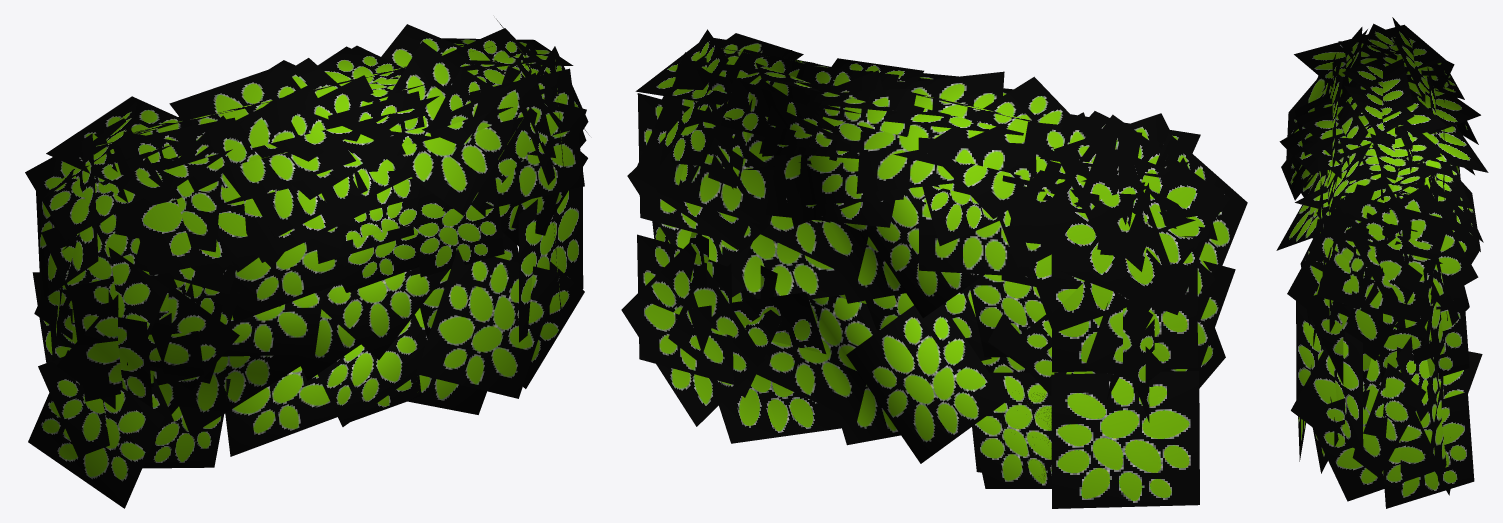
The model's file is q_Bush_Large.glb.
3 renders of one model, left to right at view 1: azimuth 30°, elevation 25°; view 2: azimuth 150°, elevation 25°; view 3: azimuth 270°, elevation 25°, orthographic. The views are drawn at different scales.
Visible parts, largest first — view 1: Bush_Large_Plane.031; view 2: Bush_Large_Plane.031; view 3: Bush_Large_Plane.031.
Part boxes in pixels (box(x1,y1,x2,y2)): Bush_Large_Plane.031: box(25, 19, 589, 508); Bush_Large_Plane.031: box(621, 29, 1247, 508); Bush_Large_Plane.031: box(1276, 17, 1488, 508).
Bounding box in the file's own units: 1.9 × 1.22 × 0.7238.
Materials: 1 (1 with a texture image).
